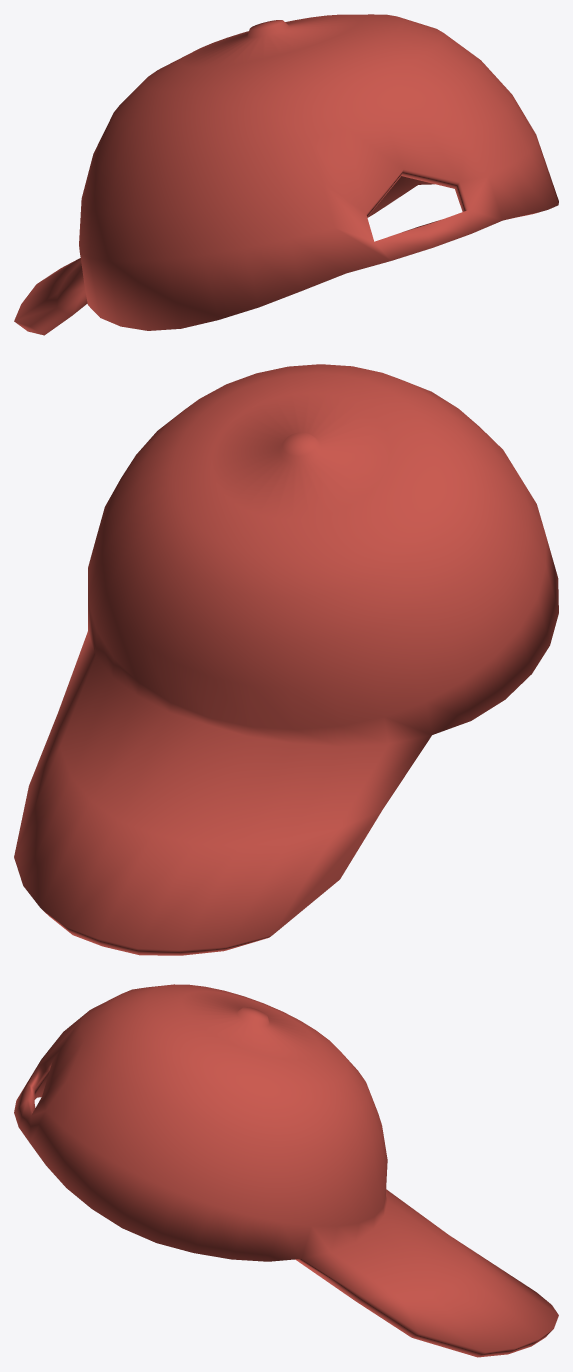
Rendered from cap_item.gltf.
3 views of the same model, one above another, from view 1: azimuth 30°, elevation 25°; view 2: azimuth 150°, elevation 25°; view 3: azimuth 270°, elevation 25° (orthographic). The views are drawn at different scales.
Visible parts, largest first — view 1: Cap; view 2: Cap; view 3: Cap.
Boxes of the visible parts, x1,y1,x2,y2 form: Cap: (14, 14, 558, 335); Cap: (14, 364, 558, 955); Cap: (14, 984, 558, 1357).
Size of the model in its own units: 0.2041 by 0.1885 by 0.2893.
